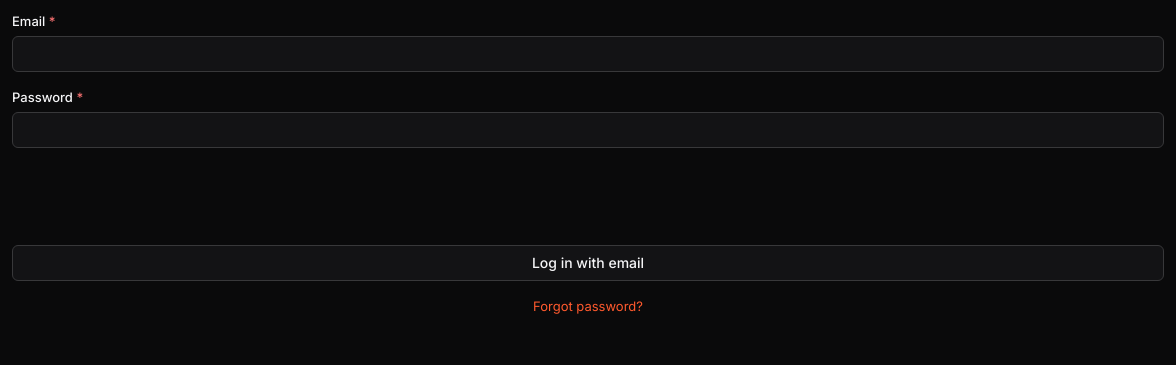
Test: LoginForm › the lock message stands alone (no Google hint needed; it names Google itself)
Click the button "Log in with email": (588, 263) [12,245,1164,281]
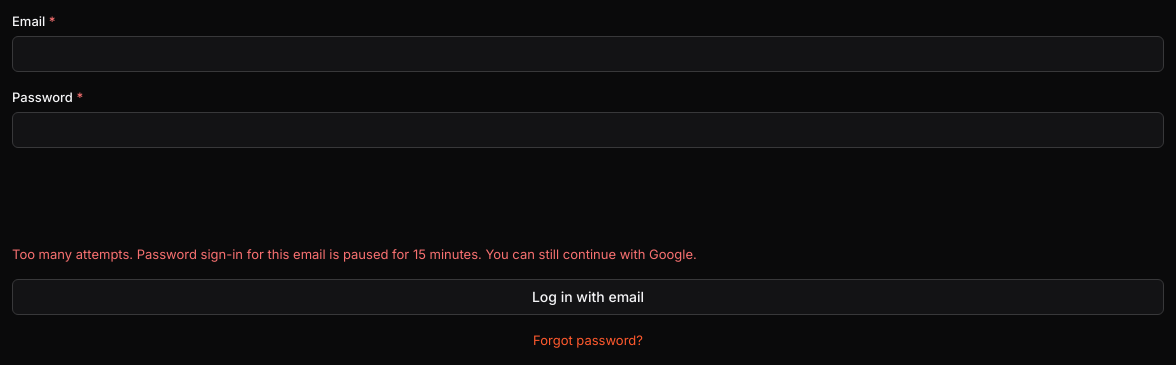
Check: the message does not show "Signed up with Google?", box [12,246,697,262]
Check: the message shows "paused for 15 minutes", box [12,246,697,262]
